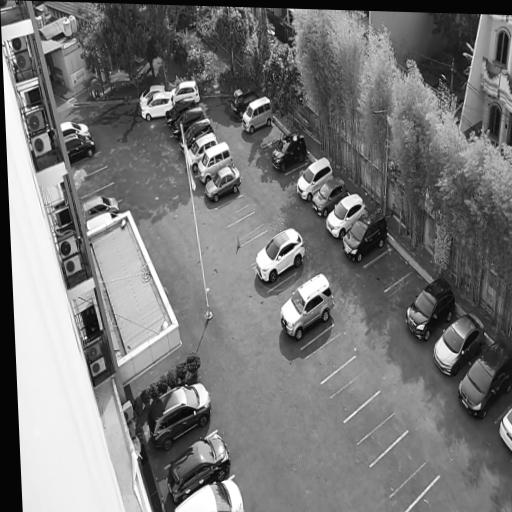Car: (161, 422, 241, 507), (142, 378, 219, 460), (451, 335, 512, 428), (275, 270, 342, 347), (428, 308, 493, 383), (397, 273, 462, 347), (251, 224, 311, 288), (339, 204, 394, 267), (173, 472, 248, 512), (322, 191, 370, 241), (293, 153, 335, 202), (268, 128, 312, 174), (197, 137, 236, 186), (309, 174, 350, 219), (203, 164, 246, 205), (239, 94, 276, 136), (184, 132, 219, 175), (177, 117, 215, 155), (170, 105, 207, 142), (63, 132, 100, 165), (162, 96, 198, 129), (140, 91, 175, 122), (81, 195, 121, 222), (228, 85, 260, 118), (492, 407, 512, 452), (86, 212, 125, 232), (170, 80, 201, 103), (138, 84, 165, 108), (60, 121, 92, 137)
Space Available: (370, 429, 439, 512), (344, 389, 407, 466), (321, 355, 380, 421), (302, 324, 355, 385), (404, 476, 466, 512), (363, 248, 412, 290), (385, 270, 427, 310), (227, 212, 268, 246), (267, 271, 304, 307), (216, 193, 255, 227), (76, 166, 115, 198), (71, 151, 107, 181), (252, 123, 286, 147), (81, 183, 121, 203), (241, 230, 271, 255), (285, 161, 312, 183)
